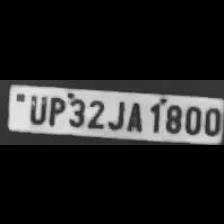0: (181, 102, 201, 134), (202, 103, 222, 135)
1: (144, 99, 162, 134)
2: (85, 96, 105, 128)
3: (65, 94, 84, 126)
8: (162, 100, 182, 132)
A: (123, 97, 143, 130)
J: (105, 96, 124, 130)
P: (44, 93, 64, 125)
U: (26, 92, 46, 124)
